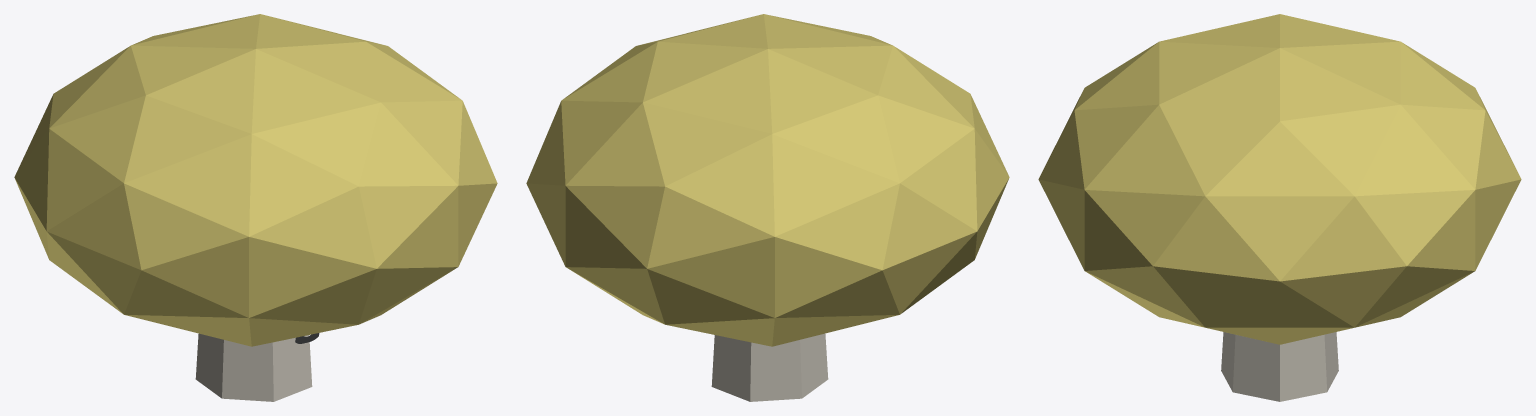
File: collybiopsis-subpruinosa.glb
3 views of the same model, side by side, from view 1: azimuth 30°, elevation 25°; view 2: azimuth 150°, elevation 25°; view 3: azimuth 270°, elevation 25° (orthographic).
Parts seen in each view (by area): view 1: cap, stalk; view 2: cap, stalk; view 3: cap, stalk.
Part boxes in pixels (x1,y1,x2,y2): cap: (14,14,497,346); stalk: (195,333,312,401); cap: (526,14,1009,346); stalk: (711,333,828,401); cap: (1038,14,1521,344); stalk: (1221,332,1338,401).
Bounding box in the file's own units: 0.4 × 0.3 × 0.4.
